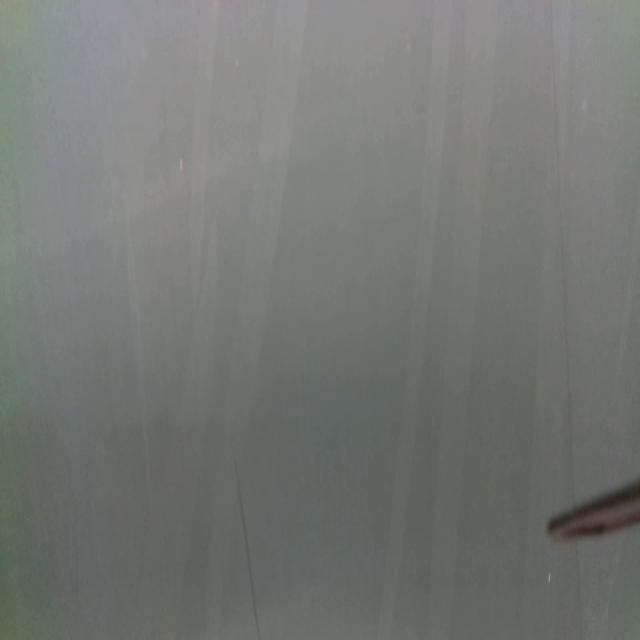crease: (548, 0, 577, 504), (234, 460, 261, 640), (573, 540, 584, 640)
